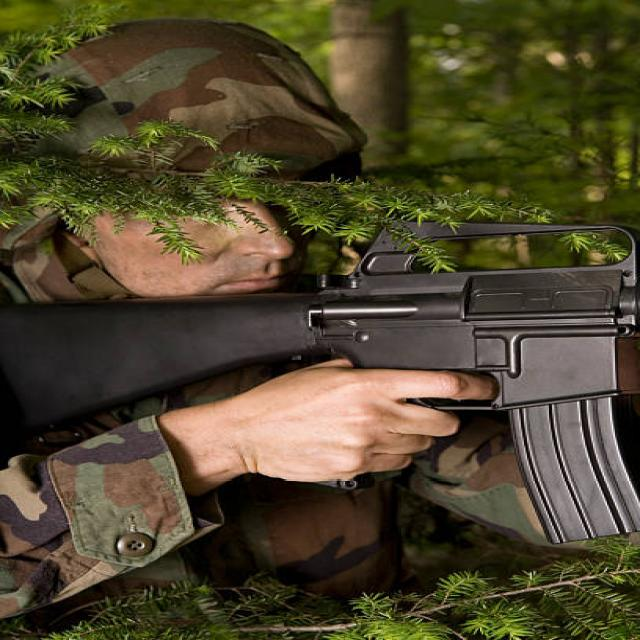soldier: (15, 10, 640, 640)
